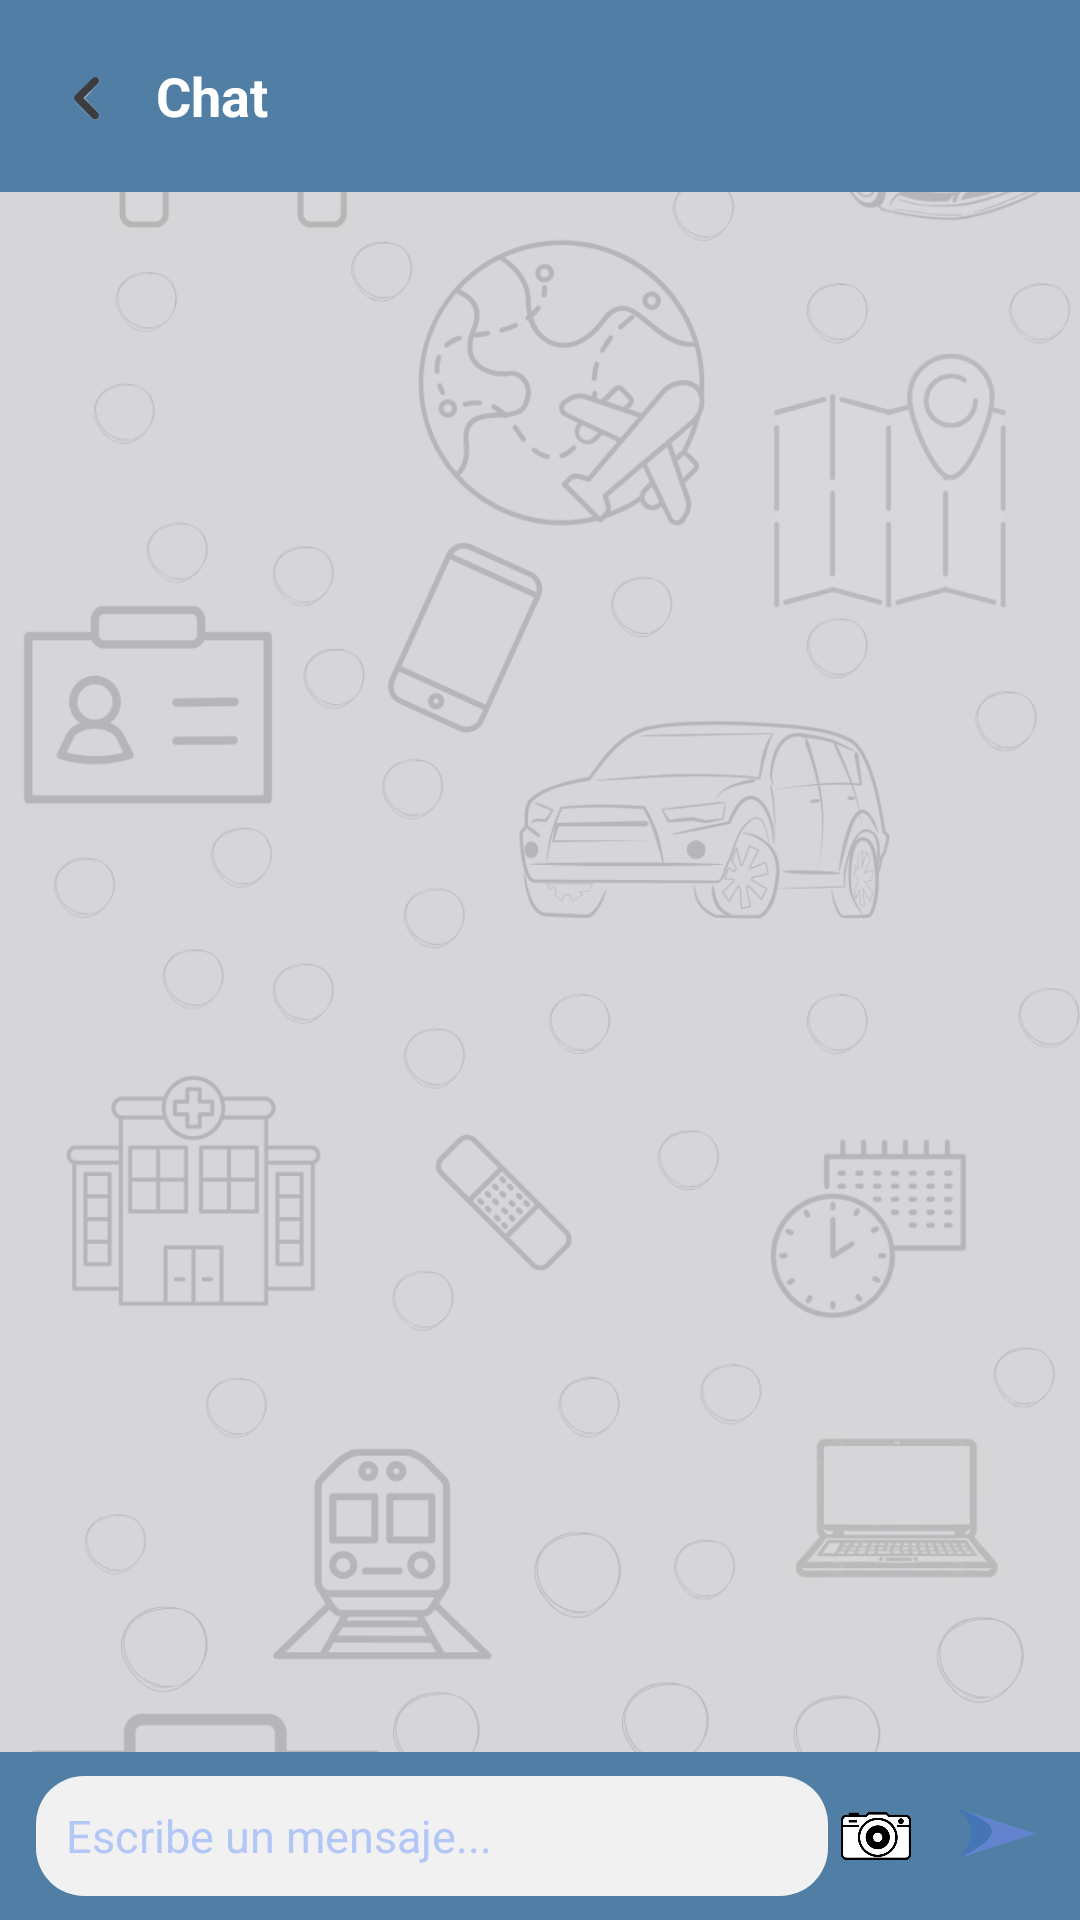

Icons on this 1080 × 1920 Android screen, each with the point to tap as point (x, y):
Abrir cámara: point (876, 1836)
Enviar: point (997, 1834)
